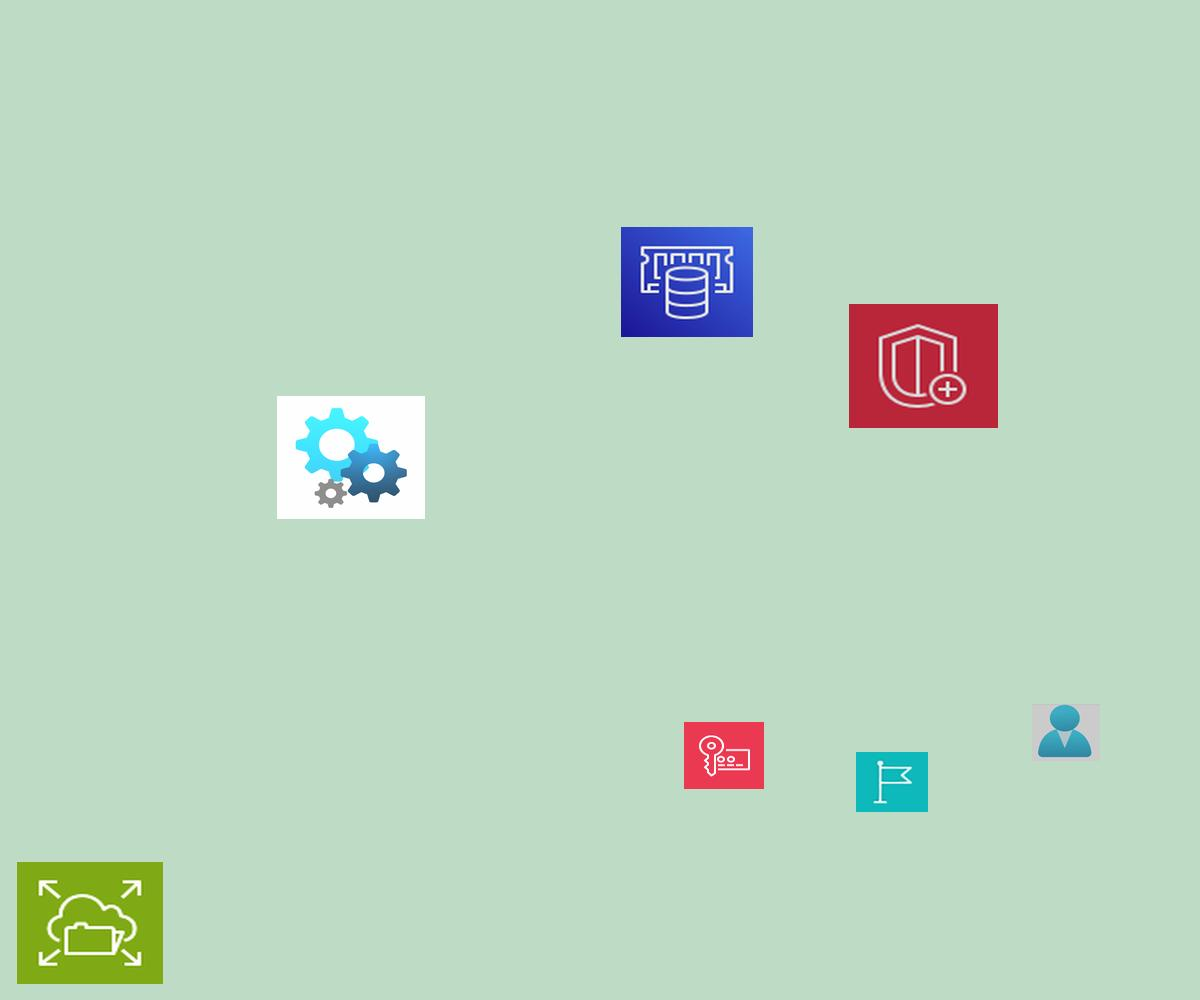AWS-EFS: (17, 862, 163, 984)
AWS-ElastiCache: (621, 227, 753, 337)
AWS-Key-Management-Service: (684, 722, 764, 789)
AWS-Region: (856, 752, 928, 812)
AWS-Shield: (849, 304, 998, 428)
Azure_api: (277, 396, 425, 519)
Azure_users: (1032, 704, 1100, 761)
